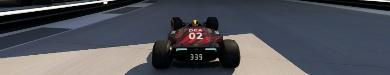Car: (151, 15, 240, 69)
